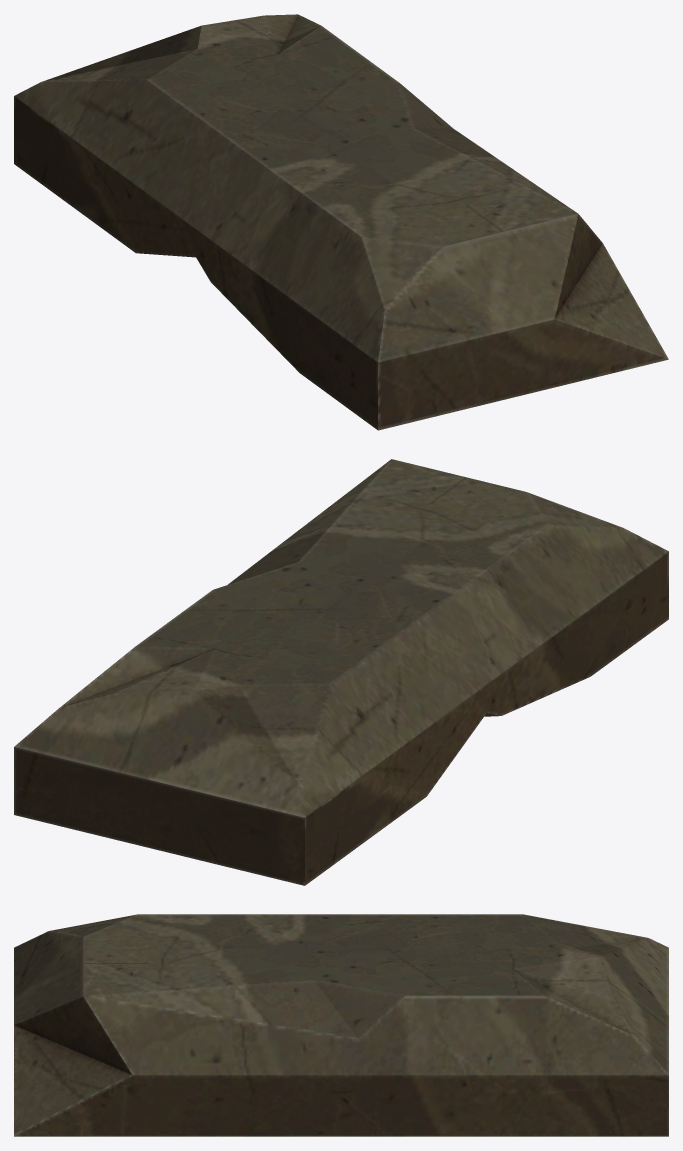
File: Slag_Polished.glb
3 renders of one model, top to bottom at view 1: azimuth 30°, elevation 25°; view 2: azimuth 150°, elevation 25°; view 3: azimuth 270°, elevation 25°, orthographic. The views are drawn at different scales.
Parts seen in each view (by area): view 1: Slag_Polished; view 2: Slag_Polished; view 3: Slag_Polished.
Part boxes in pixels (box(x1,y1,x2,y2)): Slag_Polished: box(14, 14, 668, 430); Slag_Polished: box(14, 459, 668, 885); Slag_Polished: box(14, 914, 668, 1136).
Bounding box in the file's own units: 0.2206 × 0.0945 × 0.4784.
Materials: 1 (1 with a texture image).
